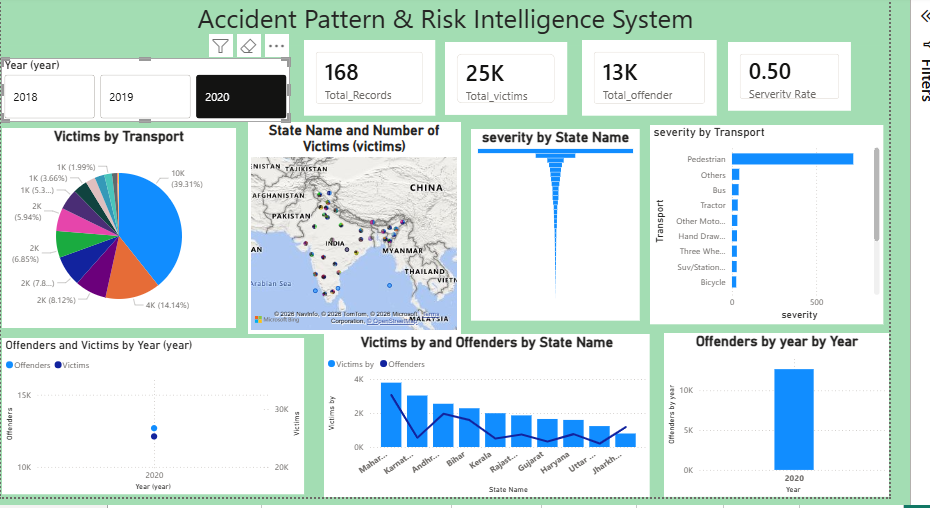

What the dashboard file says about the page in this screenshot:
{"tool":"powerbi","page":{"name":"dashboards","canvas":[1280,720],"ordinal":6},"visuals":[{"type":"textbox","box":[0,0,1280,70],"z":0},{"type":"advancedSlicerVisual","fields":{"Values":["Fact_main.Year (year)"]},"box":[0,87.8,416.2,92.2],"z":1000},{"type":"cardVisual","fields":{"Data":["state_dim1.Total_accidents"]},"box":[436.3,61.9,188.6,109.4],"z":2000},{"type":"cardVisual","fields":{"Data":["Fact_main.Total_victims"]},"box":[639.4,64.8,175.7,105.1],"z":3000},{"type":"cardVisual","fields":{"Data":["Fact_main.Total_offender"]},"box":[836.6,61.9,194.4,109.4],"z":4000},{"type":"cardVisual","fields":{"Data":["Fact_main.Serverity Rate"]},"box":[1046.9,64.8,177.1,99.4],"z":5000},{"type":"pieChart","fields":{"Category":["transport_dim.Transport"],"Y":["Sum(Fact_main.Number of Victims (victims))"]},"box":[1.4,188.6,337,288],"z":6000},{"type":"map","fields":{"Category":["state_dim1.State Name"],"Series":["Fact_main.Number of Victims (victims)"]},"box":[355.6,180.6,305.6,304.2],"z":7000},{"type":"funnel","fields":{"Category":["state_dim1.State Name"],"Y":["Sum(Fact_main.severity)"]},"box":[676.8,190.1,243.4,276.5],"z":8000},{"type":"barChart","fields":{"Y":["Sum(Fact_main.severity)"],"Category":["transport_dim.Transport"]},"box":[934.6,184.3,335.5,286.6],"z":9000},{"type":"lineChart","fields":{"Category":["Fact_main.Year (year)"],"Y":["Sum(Fact_main.Number of Offenders (offenders))"],"Y2":["Sum(Fact_main.Number of Victims (victims))"]},"box":[1.4,491,434.9,224.6],"z":10000},{"type":"lineStackedColumnComboChart","fields":{"Category":["state_dim1.State Name"],"Y":["Sum(Fact_main.Number of Victims (victims))"],"Y2":["Sum(Fact_main.Number of Offenders (offenders))"]},"box":[465.1,485.3,469.4,234.7],"z":11000},{"type":"columnChart","fields":{"Category":["Fact_main.Year (year)"],"Y":["Sum(Fact_main.Number of Offenders (offenders))"]},"box":[954.7,483.8,325.4,236.2],"z":12000}]}

Visuals, with their boxes on the page's 1280x720 design canvas (x1, y1, x2, y2). These are canvas units, not pixel positions in the 930x508 screenshot, which may show the page scaled, cropped or inside an application window:
textbox: pyautogui.locateOnScreen(0, 0, 1280, 70)
advancedSlicerVisual - Fact_main.Year (year): pyautogui.locateOnScreen(0, 88, 416, 180)
cardVisual - state_dim1.Total_accidents: pyautogui.locateOnScreen(436, 62, 625, 171)
cardVisual - Fact_main.Total_victims: pyautogui.locateOnScreen(639, 65, 815, 170)
cardVisual - Fact_main.Total_offender: pyautogui.locateOnScreen(837, 62, 1031, 171)
cardVisual - Fact_main.Serverity Rate: pyautogui.locateOnScreen(1047, 65, 1224, 164)
pieChart - transport_dim.Transport x Sum(Fact_main.Number of Victims (victims)): pyautogui.locateOnScreen(1, 189, 338, 477)
map - state_dim1.State Name x Fact_main.Number of Victims (victims): pyautogui.locateOnScreen(356, 181, 661, 485)
funnel - state_dim1.State Name x Sum(Fact_main.severity): pyautogui.locateOnScreen(677, 190, 920, 467)
barChart - Sum(Fact_main.severity) x transport_dim.Transport: pyautogui.locateOnScreen(935, 184, 1270, 471)
lineChart - Fact_main.Year (year) x Sum(Fact_main.Number of Offenders (offenders)): pyautogui.locateOnScreen(1, 491, 436, 716)
lineStackedColumnComboChart - state_dim1.State Name x Sum(Fact_main.Number of Victims (victims)): pyautogui.locateOnScreen(465, 485, 934, 720)
columnChart - Fact_main.Year (year) x Sum(Fact_main.Number of Offenders (offenders)): pyautogui.locateOnScreen(955, 484, 1280, 720)
